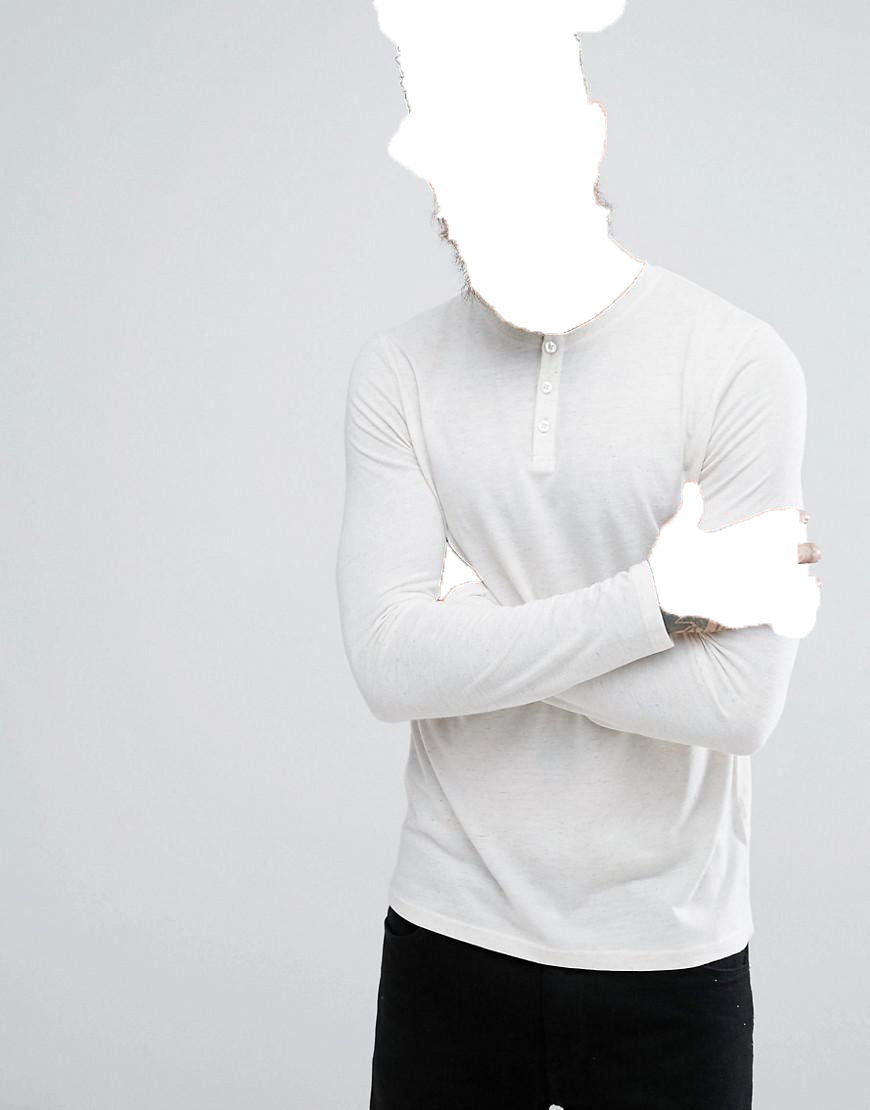teeshirt: (320, 268, 825, 976)
